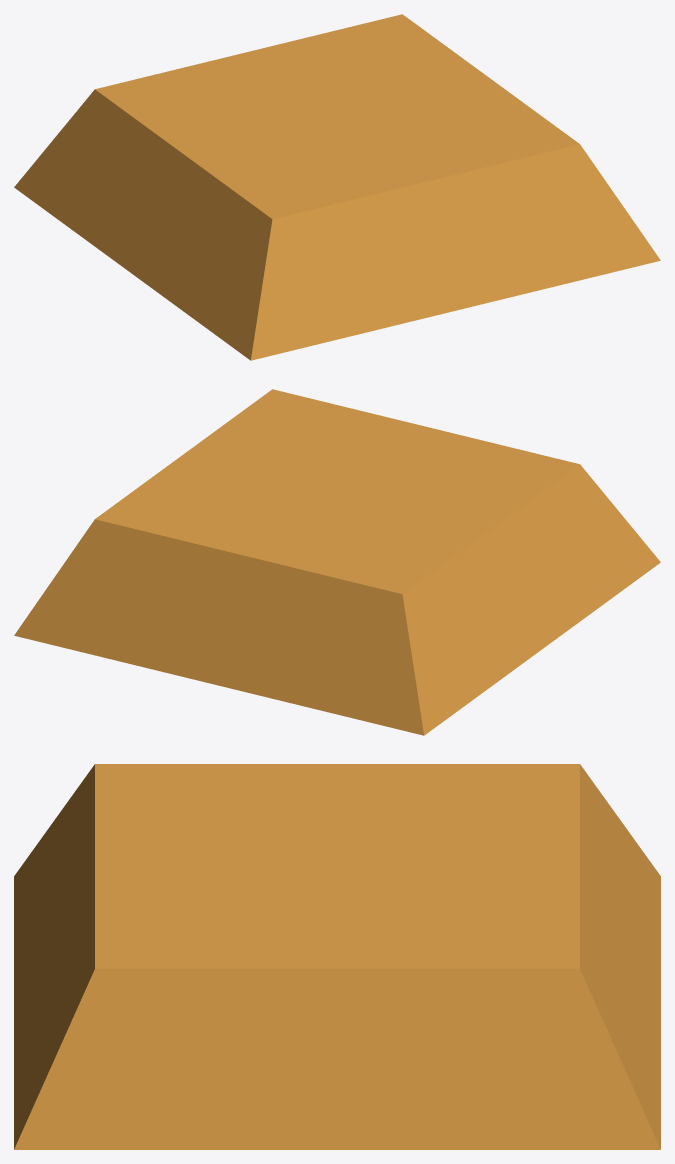
The model's file is cargo_lift.gltf.
The picture shows the model from 3 angles, top to bottom: view 1: azimuth 30°, elevation 25°; view 2: azimuth 150°, elevation 25°; view 3: azimuth 270°, elevation 25°; orthographic projection. The views are drawn at different scales.
Parts seen in each view (by area): view 1: Factory Cargo Lift; view 2: Factory Cargo Lift; view 3: Factory Cargo Lift.
Part boxes in pixels (bbox=[...]): Factory Cargo Lift: bbox=[14, 14, 660, 360]; Factory Cargo Lift: bbox=[14, 389, 660, 735]; Factory Cargo Lift: bbox=[14, 764, 660, 1149].
Bounding box in the file's own units: 2 × 0.5 × 2.
